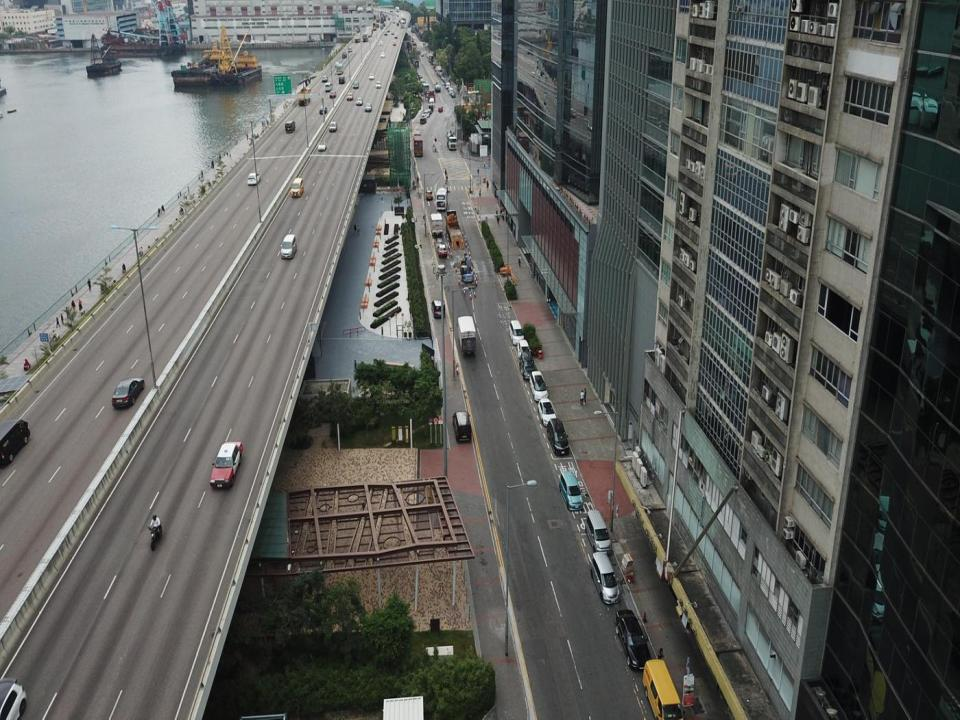bus: (435, 187, 448, 211), (445, 130, 458, 150)
car: (614, 608, 651, 669), (588, 548, 620, 605), (209, 440, 242, 491), (111, 376, 145, 410), (558, 468, 584, 512), (546, 417, 570, 457), (451, 409, 474, 444), (528, 369, 547, 400), (537, 396, 555, 426), (519, 350, 536, 381), (506, 319, 521, 344), (516, 339, 530, 361), (431, 299, 444, 320), (290, 178, 304, 197), (247, 172, 260, 186), (437, 243, 447, 258), (328, 120, 338, 132), (317, 139, 326, 152), (319, 104, 326, 116), (364, 102, 372, 112), (355, 96, 363, 106), (329, 90, 337, 98), (320, 74, 328, 82), (419, 117, 427, 125), (353, 80, 359, 90), (346, 92, 353, 100), (438, 103, 443, 114), (368, 73, 374, 81), (424, 109, 429, 118), (378, 39, 384, 46), (376, 81, 381, 89), (380, 51, 385, 59), (347, 46, 353, 52), (427, 107, 432, 114), (392, 39, 396, 46), (384, 29, 388, 36), (394, 32, 398, 38), (391, 30, 393, 36), (387, 27, 390, 31)
truck: (455, 315, 478, 362), (445, 208, 464, 250), (429, 213, 444, 239), (412, 132, 424, 159), (296, 88, 312, 107), (361, 32, 369, 42), (365, 26, 372, 36), (354, 32, 360, 43)
van: (641, 656, 683, 719), (0, 419, 30, 470), (584, 510, 612, 556), (279, 234, 298, 259), (285, 119, 296, 133), (324, 82, 332, 92)
